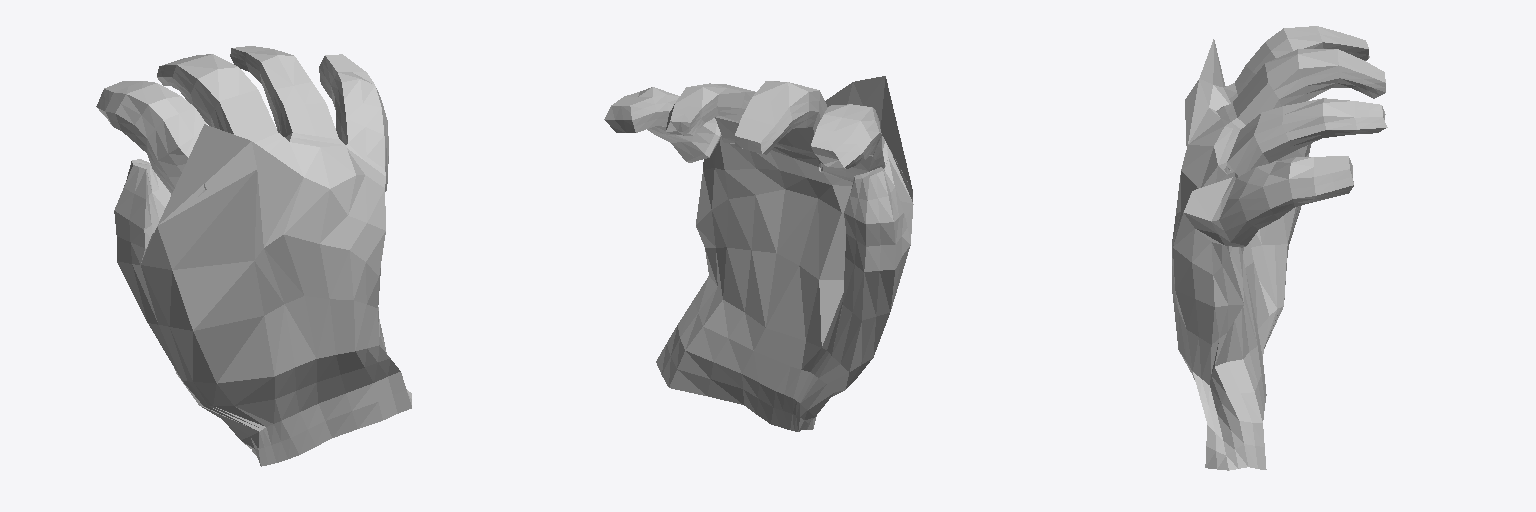
The model's file is grip0040.obj.
3 renders of one model, left to right at view 1: azimuth 30°, elevation 25°; view 2: azimuth 150°, elevation 25°; view 3: azimuth 270°, elevation 25°, orthographic.
Parts seen in each view (by area): view 1: Hand; view 2: Hand; view 3: Hand.
Part boxes in pixels (left/top/right/bottom): Hand: left=96, top=46, right=411, bottom=466; Hand: left=604, top=76, right=913, bottom=431; Hand: left=1172, top=26, right=1387, bottom=470.
Size of the model in its own units: 2.86 by 3.83 by 1.99.